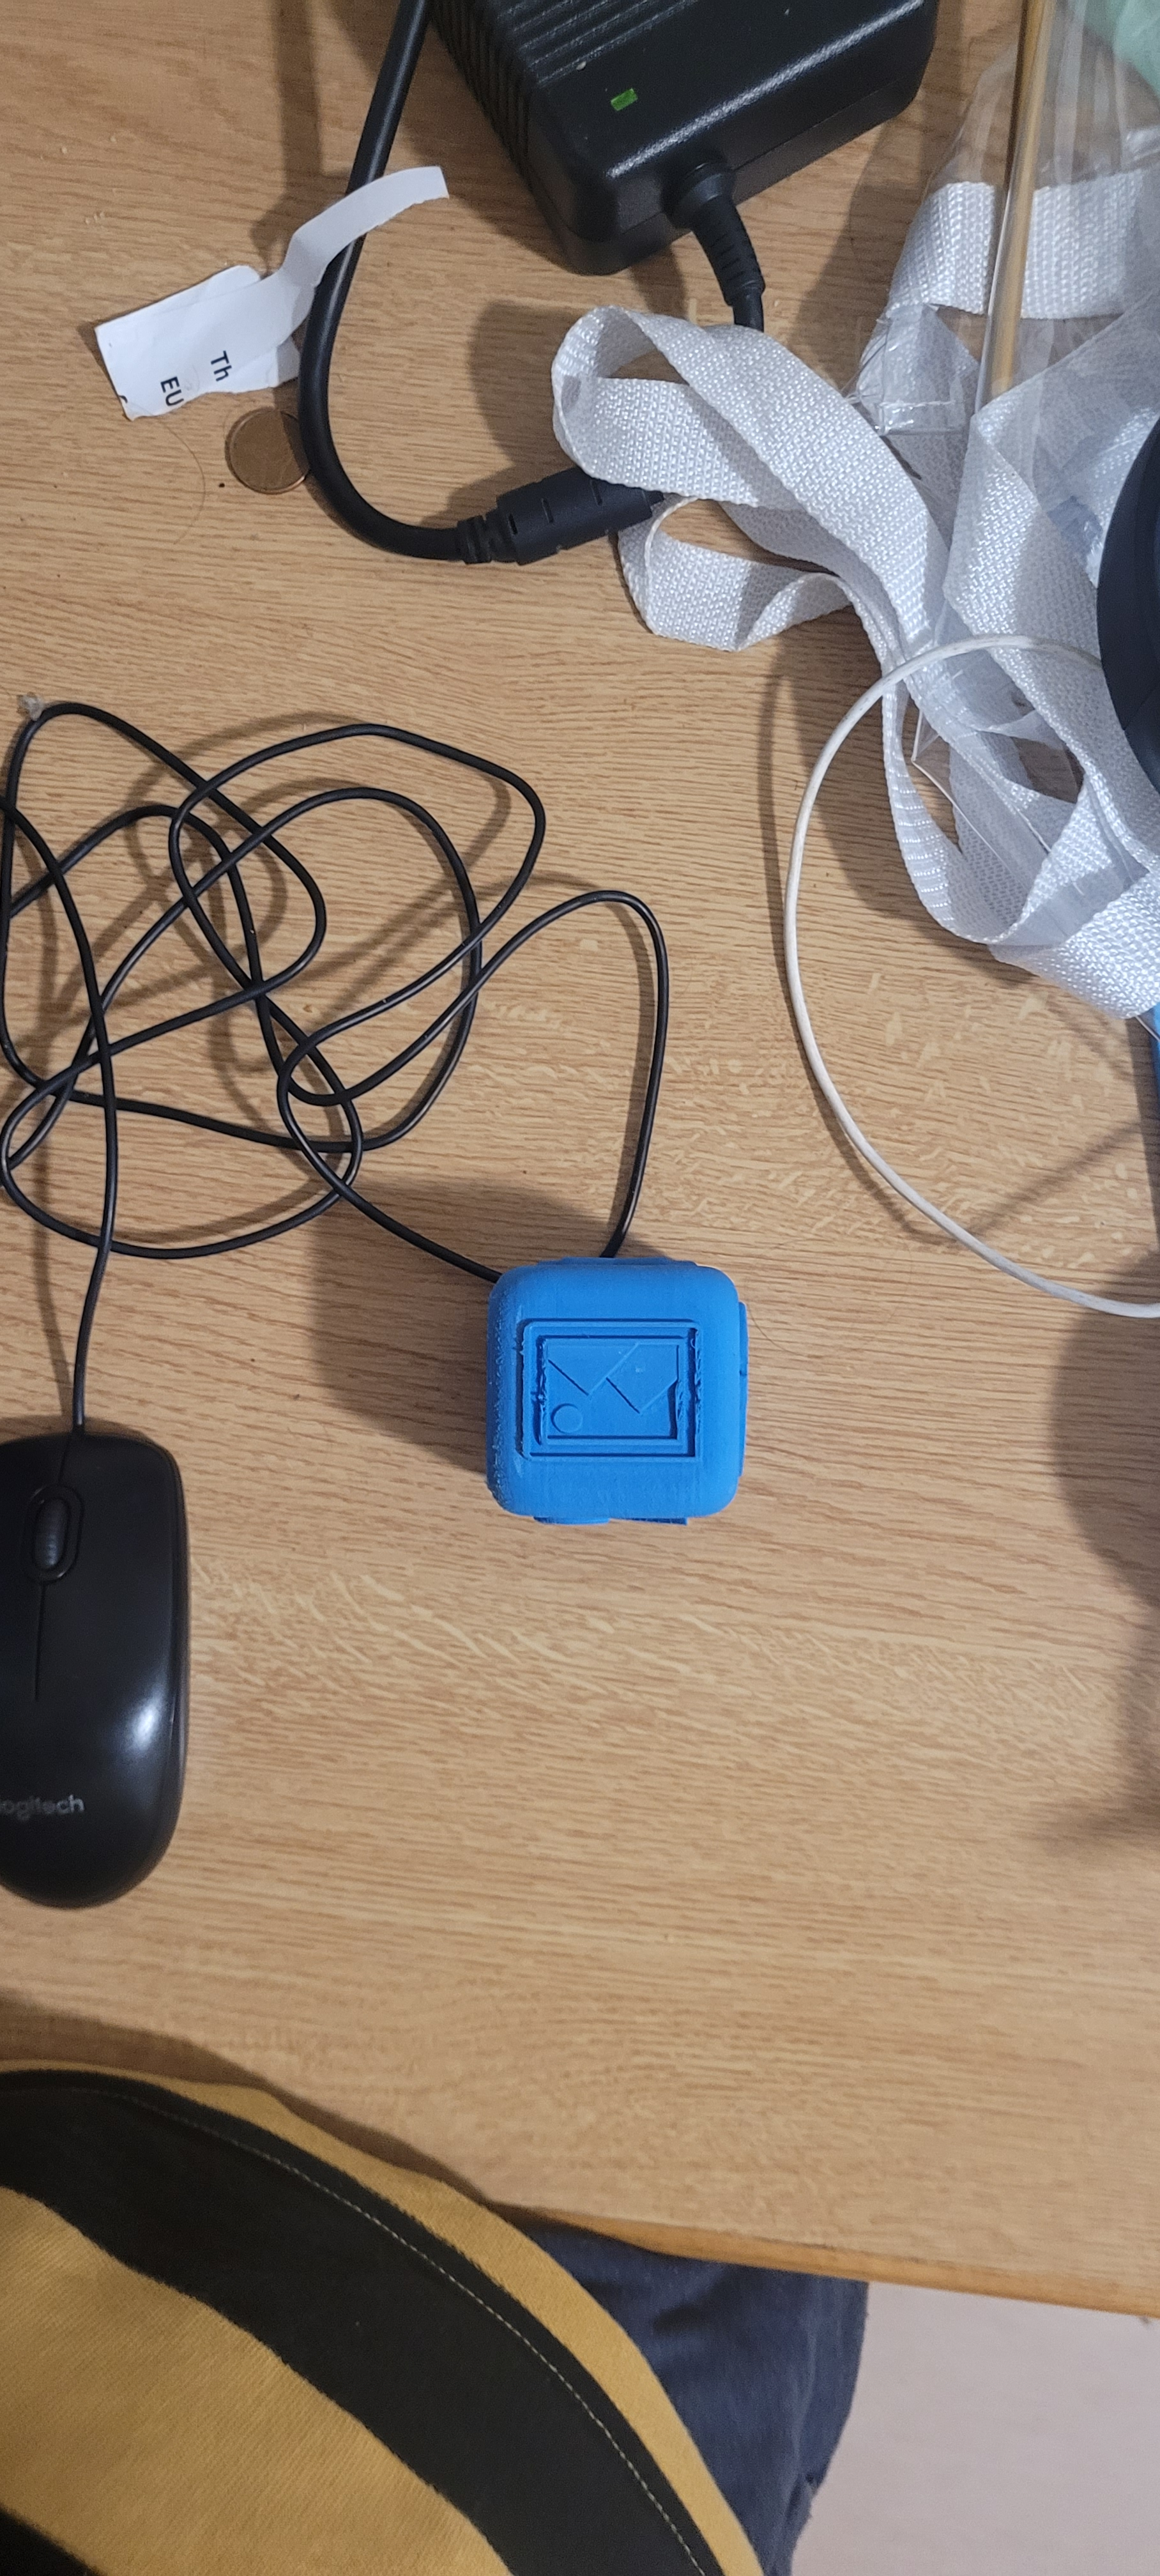Story: (513, 1314, 711, 1516)
